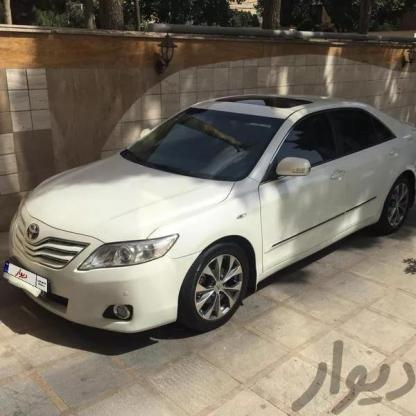Car: (0, 93, 416, 324)
